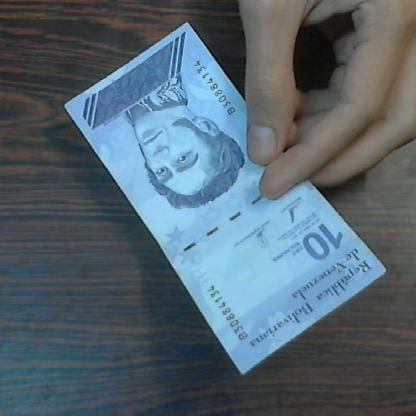ten-front-vef: (54, 18, 392, 378)
